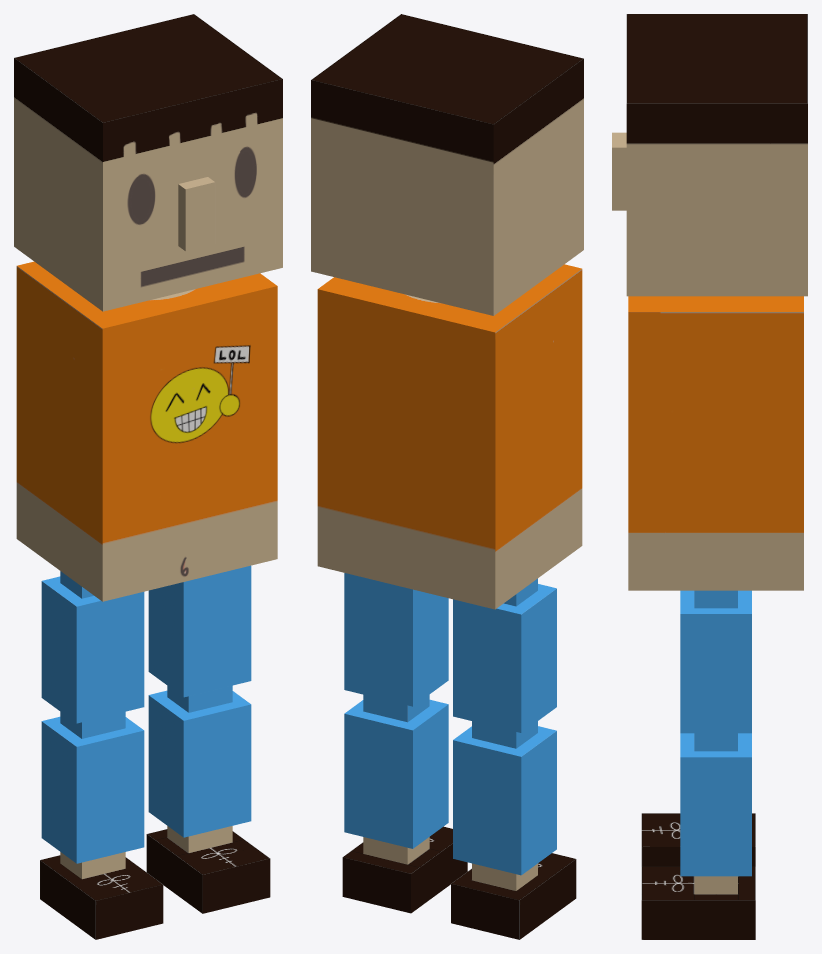
File: cousinBodyNew.fbx
The picture shows the model from 3 angles, left to right: view 1: azimuth 30°, elevation 25°; view 2: azimuth 150°, elevation 25°; view 3: azimuth 270°, elevation 25°; orthographic projection. The views are drawn at different scales.
Parts seen in each view (by area): view 1: pCube3; view 2: pCube3; view 3: pCube3.
Part boxes in pixels (x1,y1,x2,y2): pCube3: [14, 14, 282, 939]; pCube3: [311, 14, 583, 939]; pCube3: [612, 14, 807, 939].
Bounding box in the file's own units: 1.21 × 5.28 × 1.12.
Materials: 1 (1 with a texture image).
